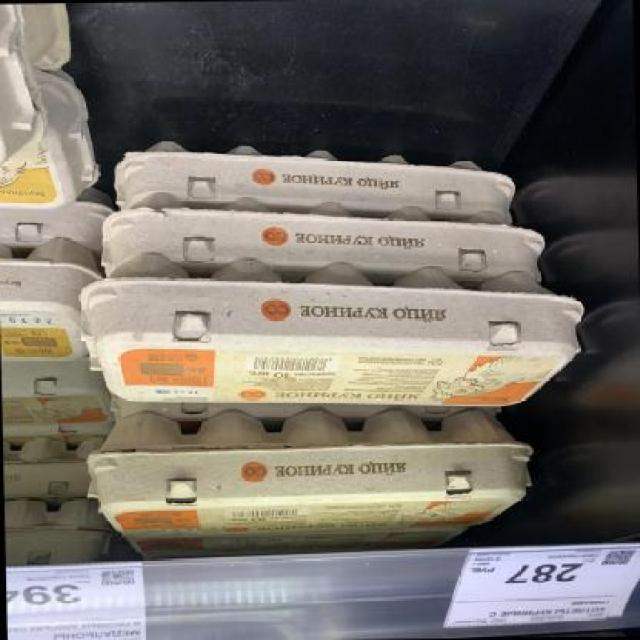egg: (75, 246, 598, 412), (85, 407, 537, 535)
